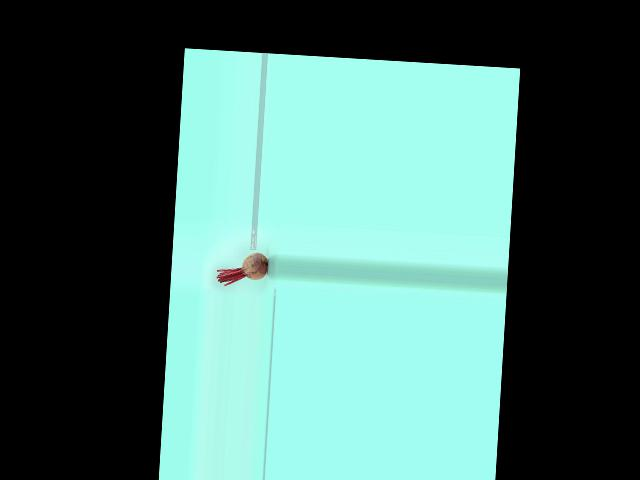beet: (216, 250, 268, 288)
